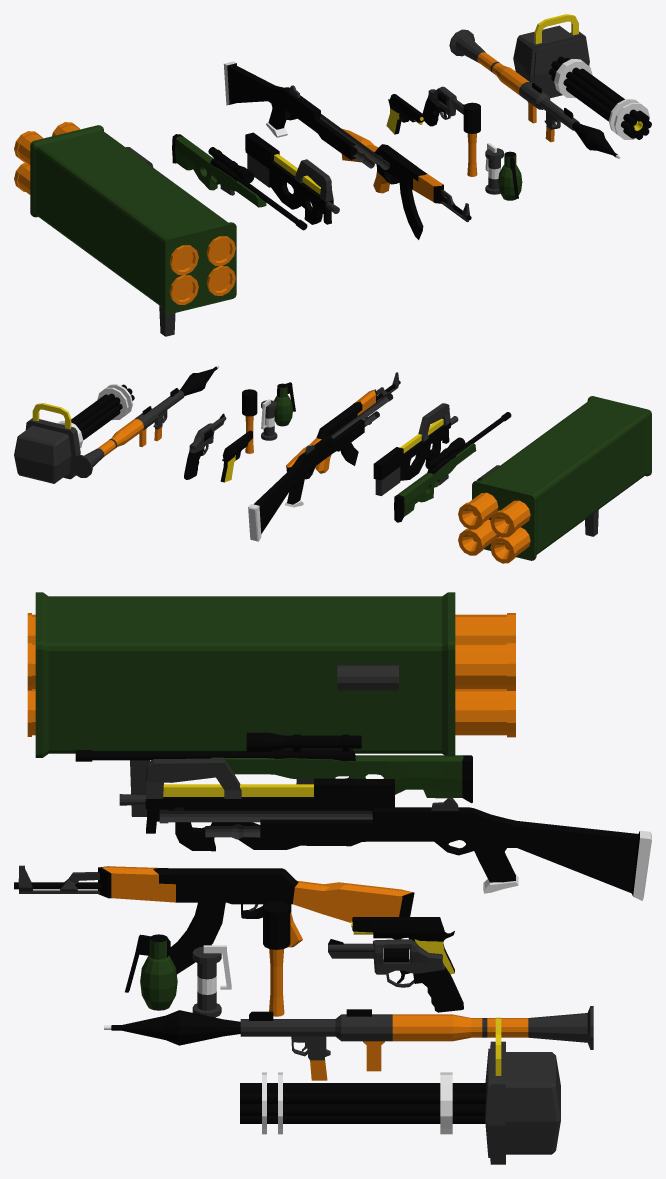
The model's file is Weapons.fbx.
The picture shows the model from 3 angles, top to bottom: view 1: azimuth 30°, elevation 25°; view 2: azimuth 150°, elevation 25°; view 3: azimuth 270°, elevation 25°; orthographic projection. The views are drawn at different scales.
Parts seen in each view (by area): view 1: Weapon_01, Weapon_09, Weapon_07, Weapon_02, Weapon_08, Weapon_03, Weapon_06, Weapon_05, g_03, g_01, Weapon_04, g_02; view 2: Weapon_01, Weapon_09, Weapon_07, Weapon_02, Weapon_08, Weapon_06, Weapon_03, Weapon_05, g_01, Weapon_04, g_03, g_02; view 3: Weapon_01, Weapon_07, Weapon_09, Weapon_03, Weapon_08, Weapon_02, Weapon_06, Weapon_05, g_01, Weapon_04, g_03, g_02.
Part boxes in pixels (<box>): Weapon_01: <box>14,122,236,336</box>; Weapon_09: <box>513,14,651,139</box>; Weapon_07: <box>223,61,390,169</box>; Weapon_02: <box>245,132,339,224</box>; Weapon_08: <box>449,29,620,158</box>; Weapon_03: <box>341,129,471,239</box>; Weapon_06: <box>172,134,307,230</box>; Weapon_05: <box>422,86,464,126</box>; g_03: <box>463,102,480,176</box>; g_01: <box>498,151,522,200</box>; Weapon_04: <box>386,94,423,134</box>; g_02: <box>485,143,503,194</box>; Weapon_01: <box>458,396,651,563</box>; Weapon_09: <box>14,384,134,483</box>; Weapon_07: <box>248,393,393,541</box>; Weapon_02: <box>373,403,458,495</box>; Weapon_08: <box>70,365,219,477</box>; Weapon_06: <box>394,412,511,522</box>; Weapon_03: <box>286,372,400,473</box>; Weapon_05: <box>184,413,226,479</box>; g_01: <box>274,382,295,426</box>; Weapon_04: <box>220,430,252,482</box>; g_03: <box>242,389,257,453</box>; g_02: <box>261,399,277,440</box>; Weapon_01: <box>27,592,515,816</box>; Weapon_07: <box>159,798,651,900</box>; Weapon_09: <box>240,1017,560,1164</box>; Weapon_03: <box>14,865,414,974</box>; Weapon_08: <box>104,1006,593,1080</box>; Weapon_02: <box>119,758,394,851</box>; Weapon_06: <box>75,732,472,803</box>; Weapon_05: <box>328,939,463,1012</box>; g_01: <box>125,934,177,1010</box>; Weapon_04: <box>351,917,454,974</box>; g_03: <box>263,901,290,1016</box>; g_02: <box>192,945,231,1017</box>.
Bounding box in the file's own units: 197 × 41.83 × 123.
